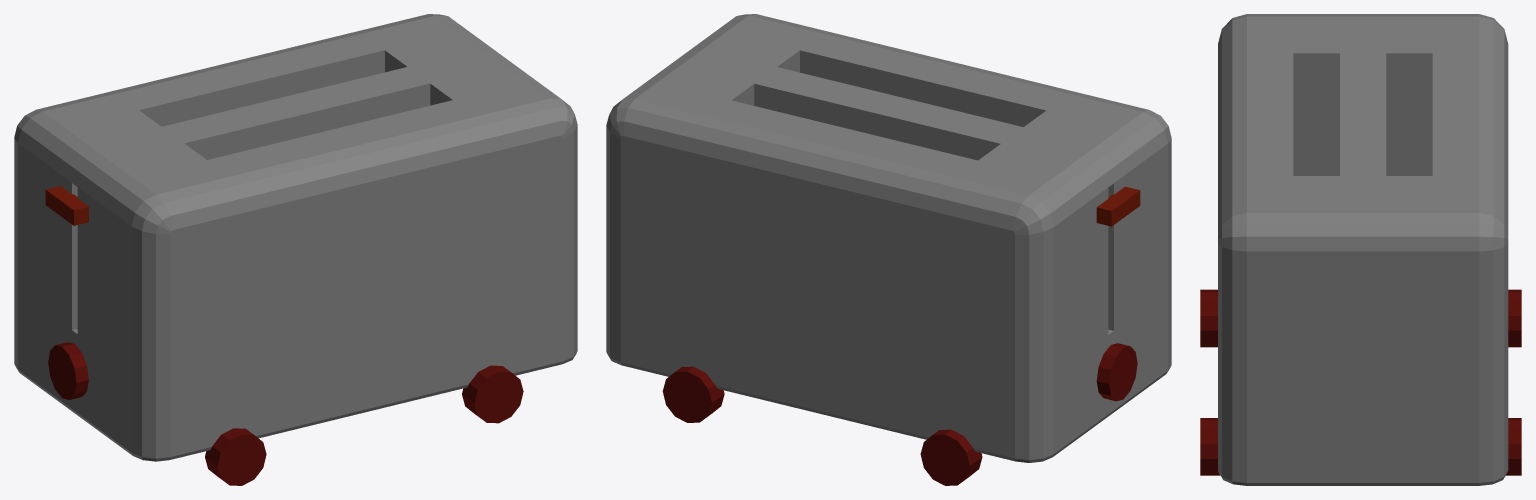
Rendered from toasterWheeled.fbx.
The picture shows the model from 3 angles, left to right: view 1: azimuth 30°, elevation 25°; view 2: azimuth 150°, elevation 25°; view 3: azimuth 270°, elevation 25°; orthographic projection. The views are drawn at different scales.
Parts seen in each view (by area): view 1: Cube, Cube.003, Cube.004, Cube.001, Cube.002; view 2: Cube, Cube.006, Cube.005, Cube.001, Cube.002; view 3: Cube, Cube.003, Cube.004, Cube.006, Cube.005.
Boxes of the visible parts, <box> form: Cube: <box>14,14,577,461</box>; Cube.003: <box>205,428,266,485</box>; Cube.004: <box>462,365,523,423</box>; Cube.001: <box>48,342,88,399</box>; Cube.002: <box>45,186,88,225</box>; Cube: <box>606,14,1171,462</box>; Cube.006: <box>920,429,982,485</box>; Cube.005: <box>662,366,724,422</box>; Cube.001: <box>1096,343,1137,401</box>; Cube.002: <box>1096,186,1140,226</box>; Cube: <box>1218,14,1508,485</box>; Cube.003: <box>1200,289,1217,347</box>; Cube.004: <box>1200,418,1220,475</box>; Cube.006: <box>1508,289,1521,347</box>; Cube.005: <box>1506,418,1521,475</box>.
Size of the model in its own units: 1.86 by 1.13 by 1.11.
